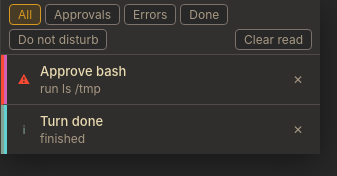
Test: filter approvals shows only approval-kind items
Click the button "Approvals".
click(83, 14)  # box [45, 4, 120, 25]
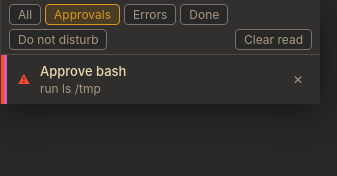
Check: the text "Approve bash" is shown, box [40, 63, 126, 79]
Check: the button "Turn done" is gone
